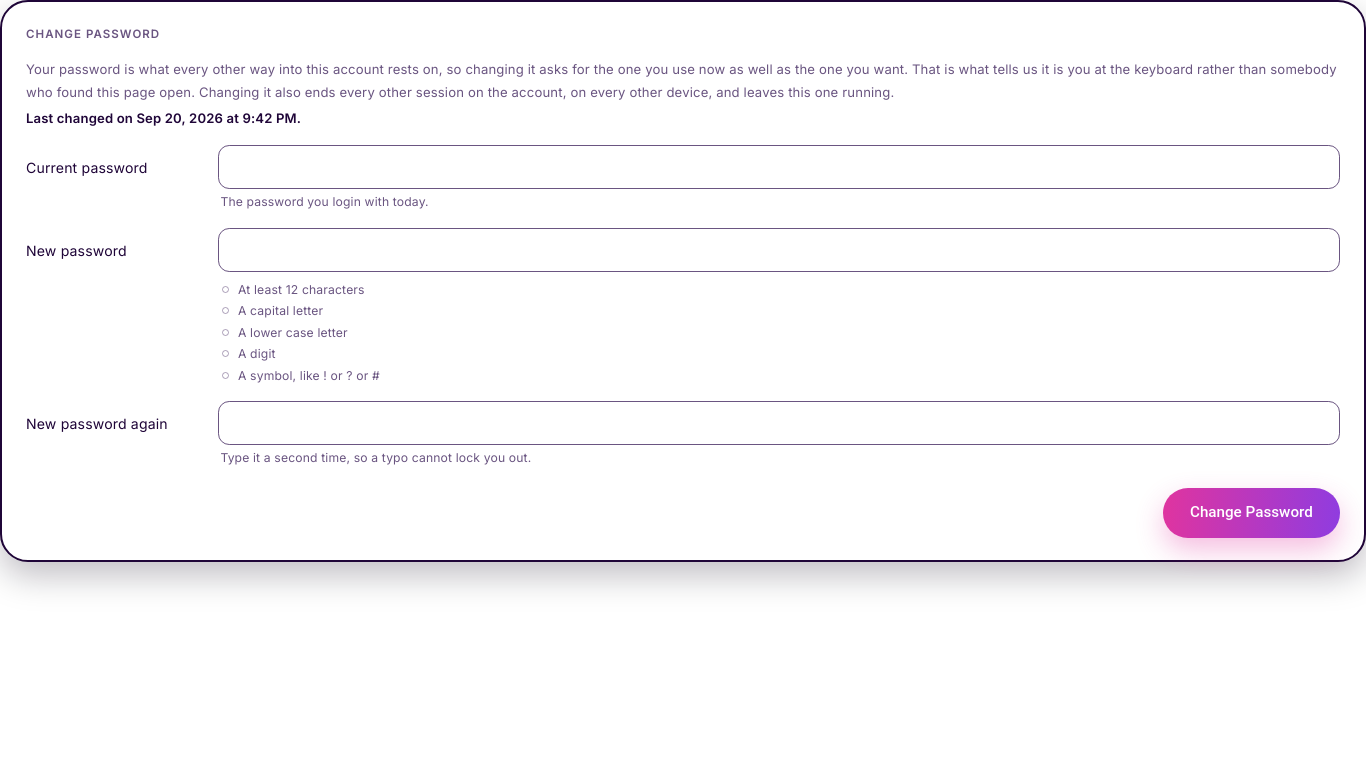
Scenario: what it refuses to send › refuses two new passwords that do not match
Type "letmein" into the password field labelled "Current password".
click(779, 167); type("letmein")  # box [218,145,1340,189]
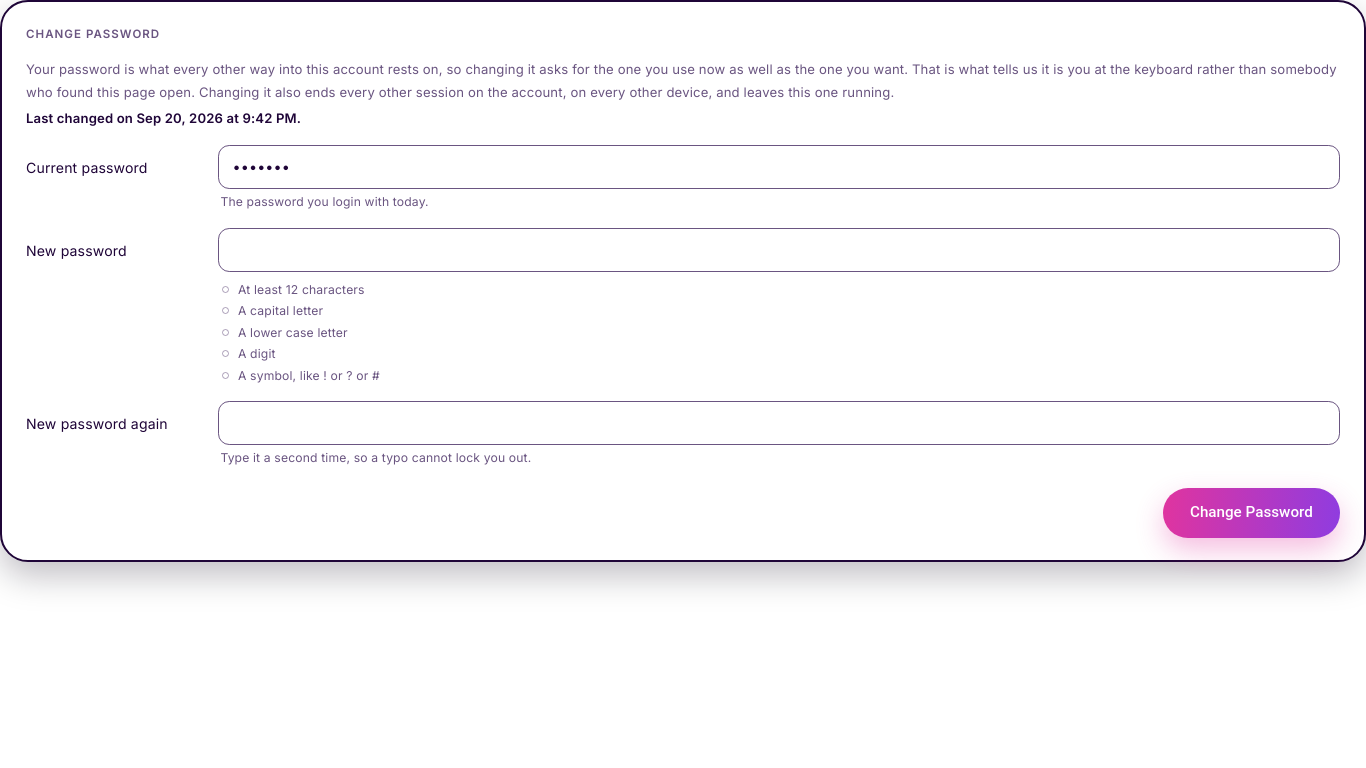
Type "Trombone-42-Fig" into the password field labelled "New password".
click(779, 250); type("Trombone-42-Fig")  # box [218,228,1340,272]
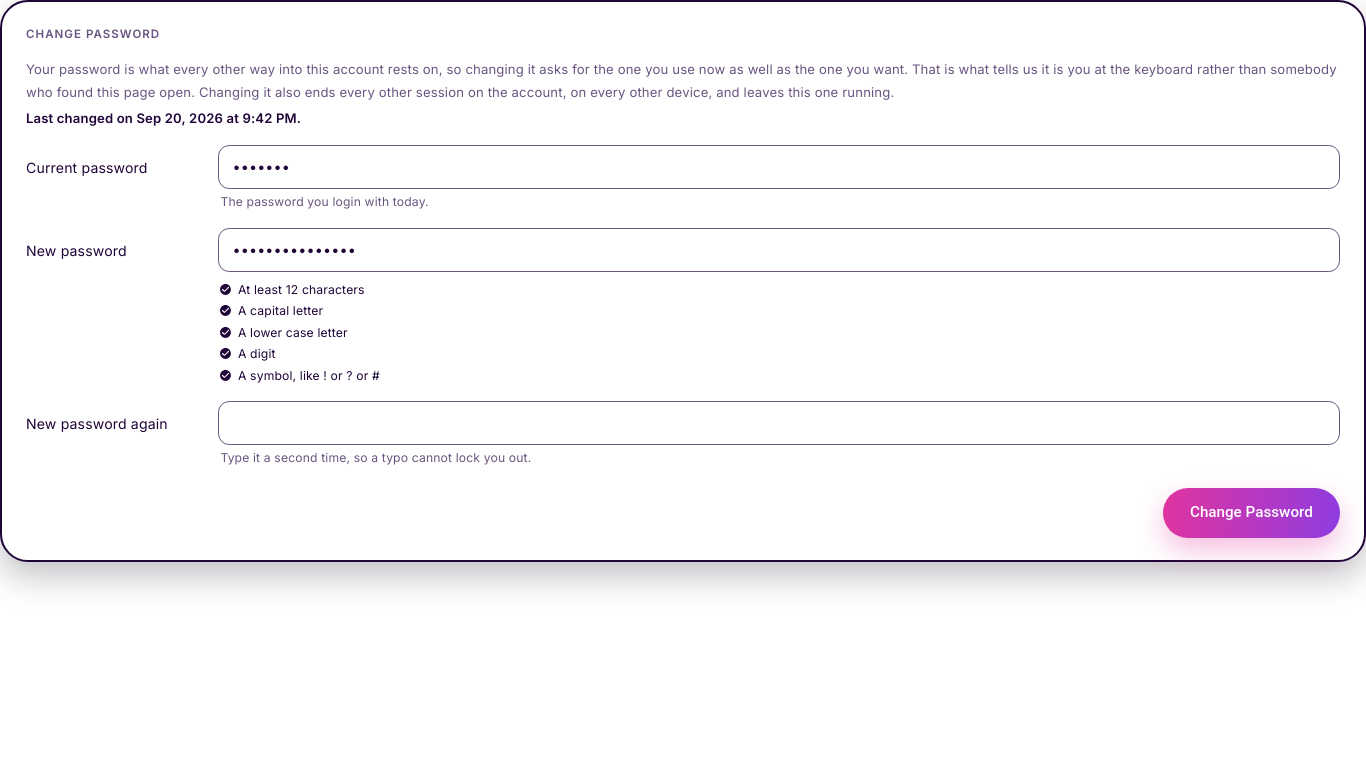
Type "Trombone-42-Fog" into the password field labelled "New password again".
click(779, 423); type("Trombone-42-Fog")  # box [218,401,1340,445]
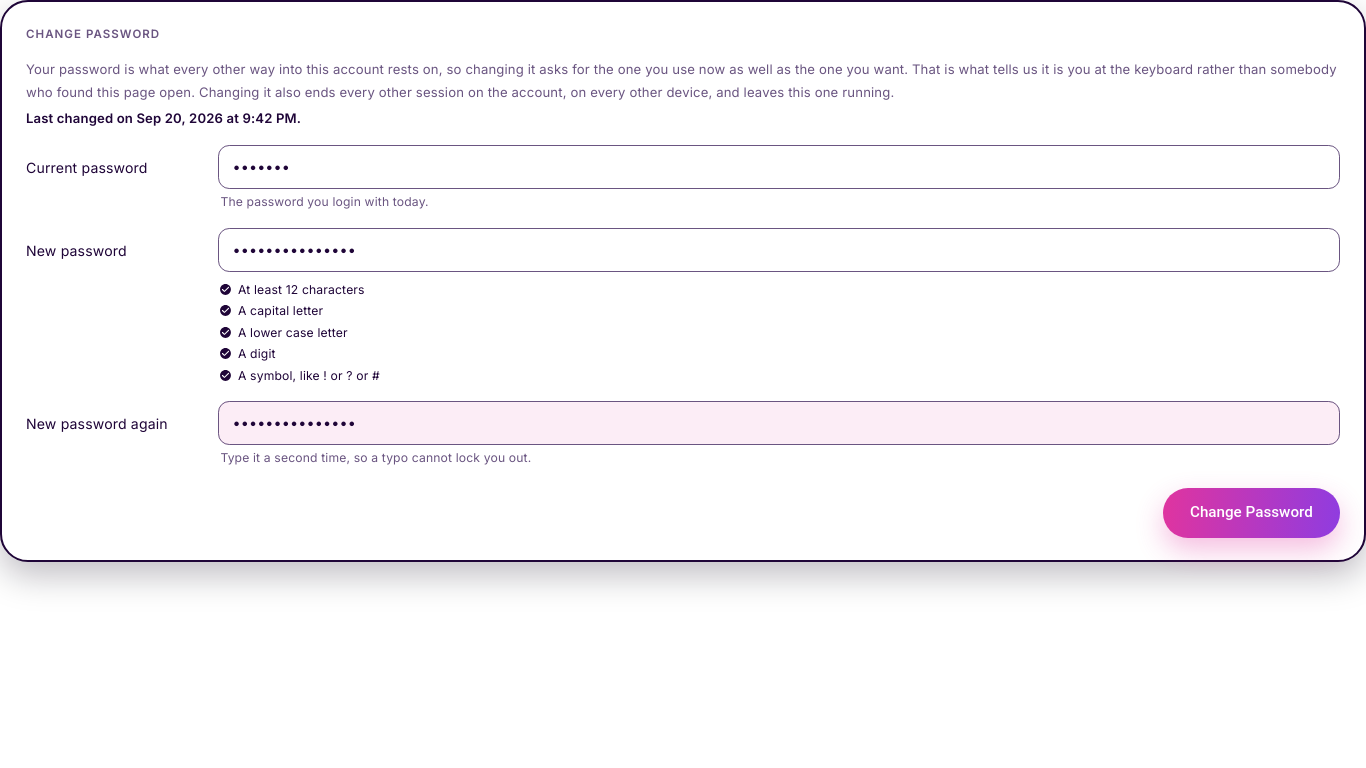
Click the button "Change Password".
click(1251, 513)  # box [1163,488,1340,538]
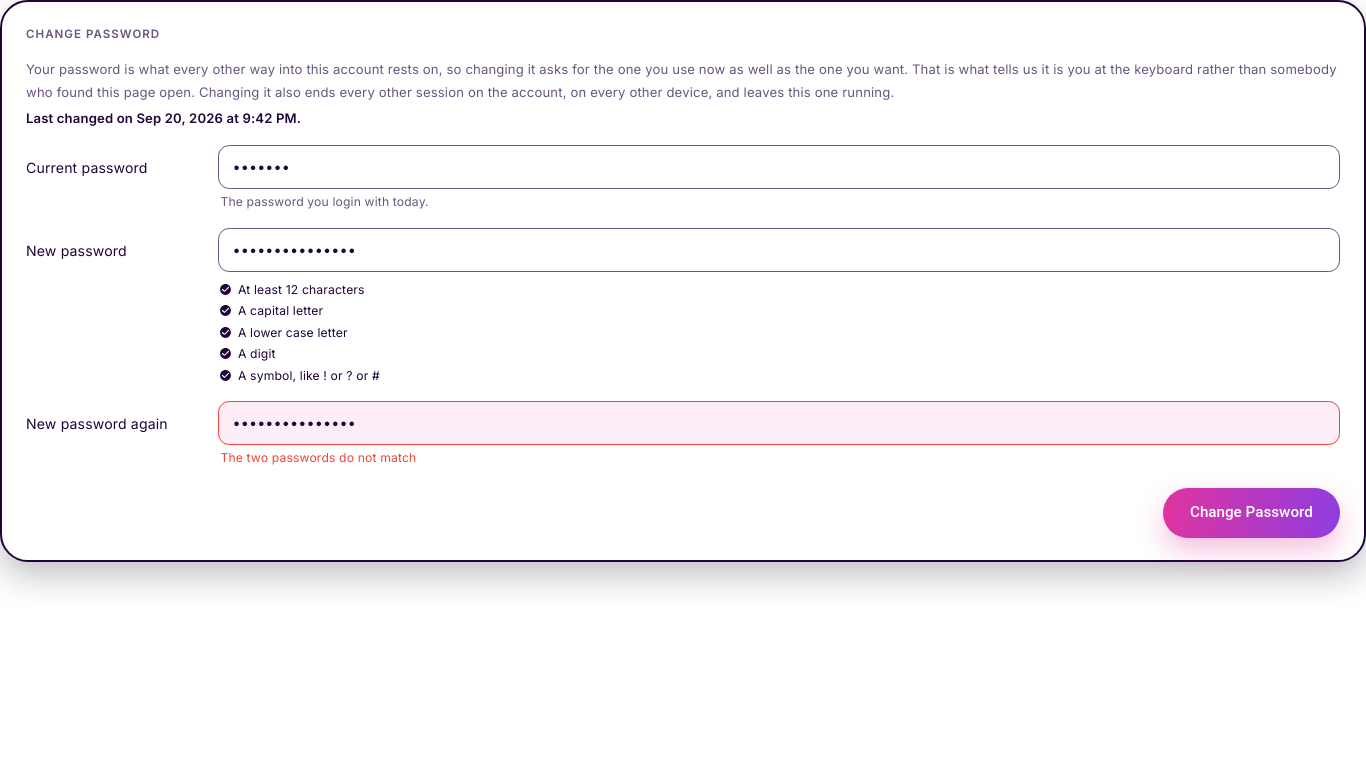
Expected: the text "The two passwords do not match" is shown, [220,450,416,465]
